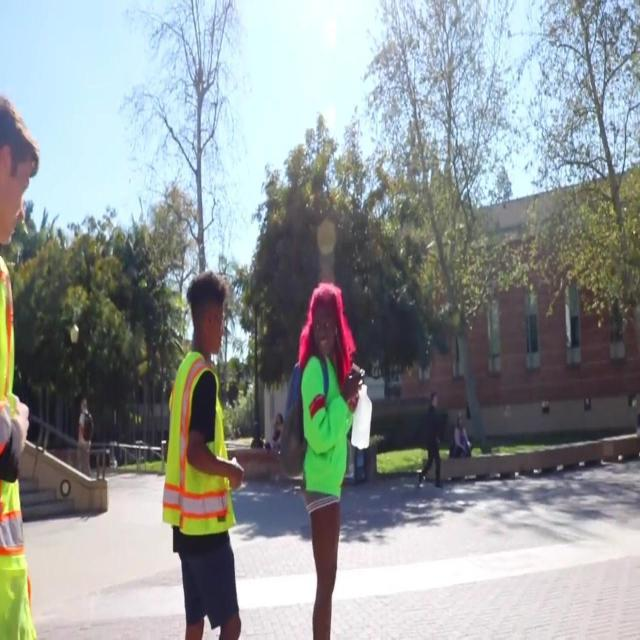Vest: (0, 249, 38, 638), (163, 354, 235, 536)
